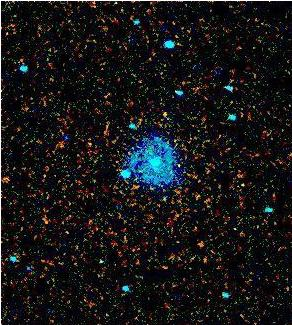star: (199, 53, 229, 83)
